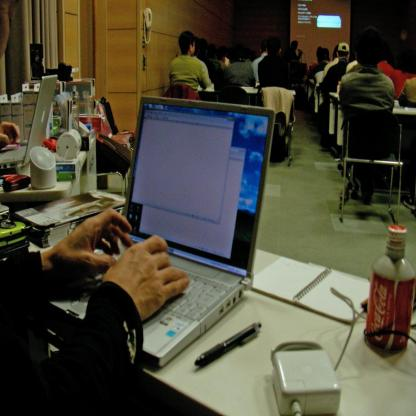board: (50, 90, 276, 364), (366, 224, 416, 350), (0, 75, 56, 167)
